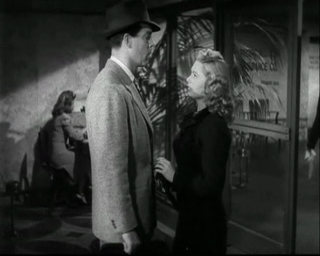face: (136, 28, 156, 68), (186, 64, 201, 99)
mls: (1, 1, 320, 256)
person: (84, 1, 162, 256), (154, 47, 234, 256)
